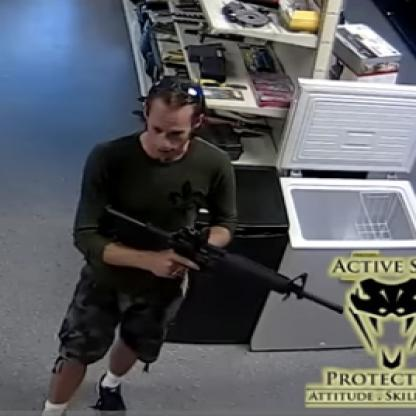criminal: (42, 77, 346, 416)
weapon: (94, 203, 345, 318)
